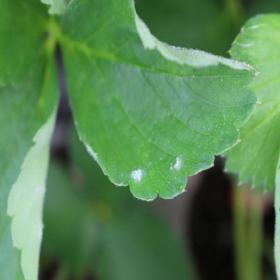Powdery Mildew Leaf: (57, 0, 264, 202), (0, 41, 60, 279)
